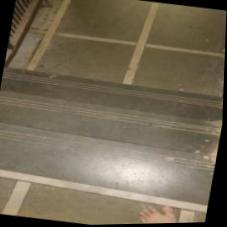Animal: (43, 66, 184, 169)
